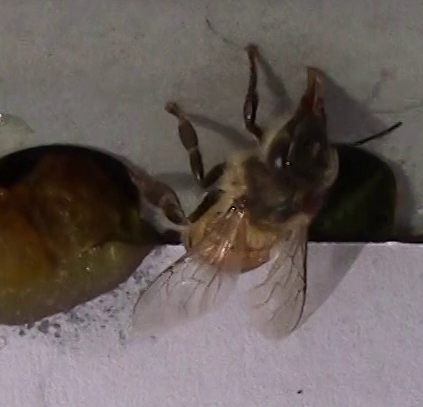Varroa destructor: (305, 191, 322, 214)
